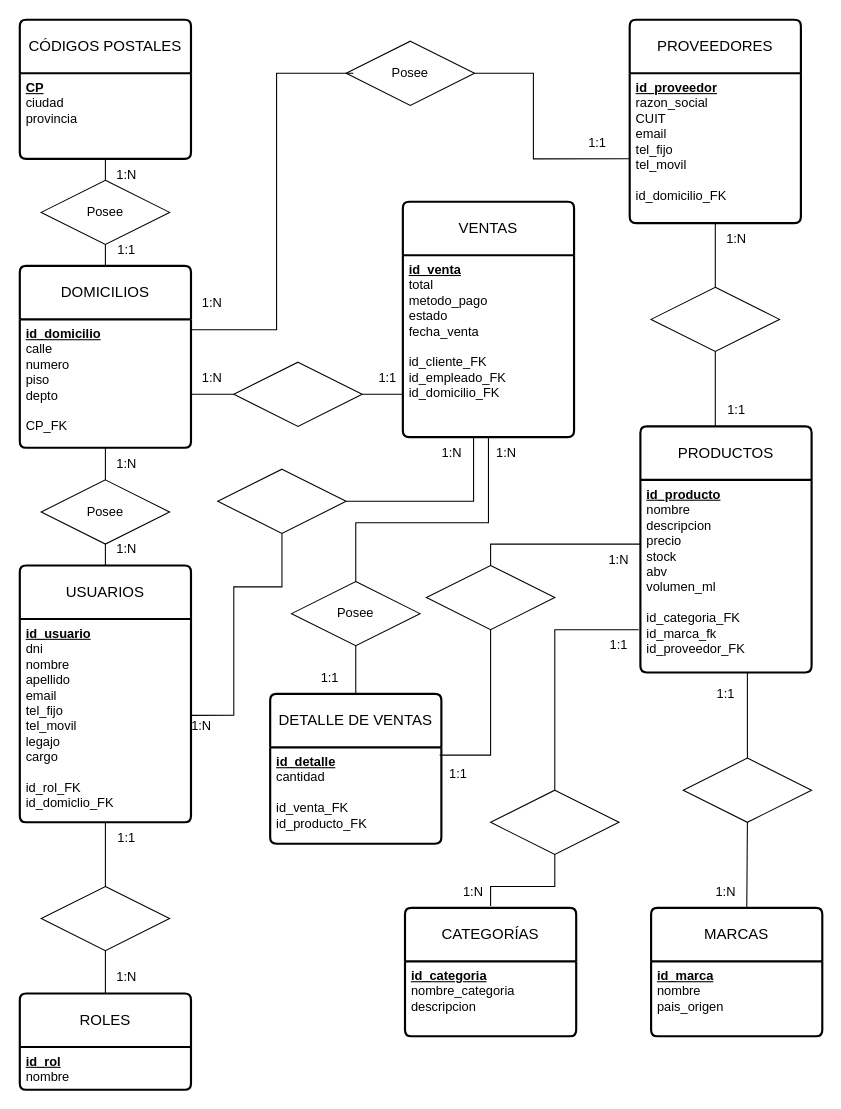
This 841x1109 diagram has some shape labels left out. Each missing label, with the centre of its shape:
Comercializa: point (714, 318)
Compra/Vende: point (281, 500)
Pertenece: point (554, 821)
Produce: point (747, 789)
Se asignan: point (105, 918)
Se envía: point (297, 393)
Se incluye en: point (490, 597)
